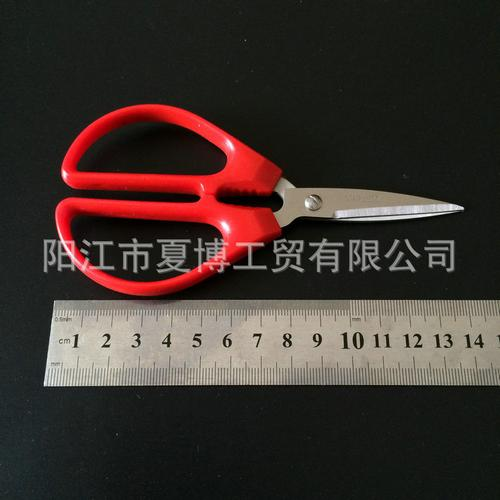scissor: (55, 104, 466, 301)
